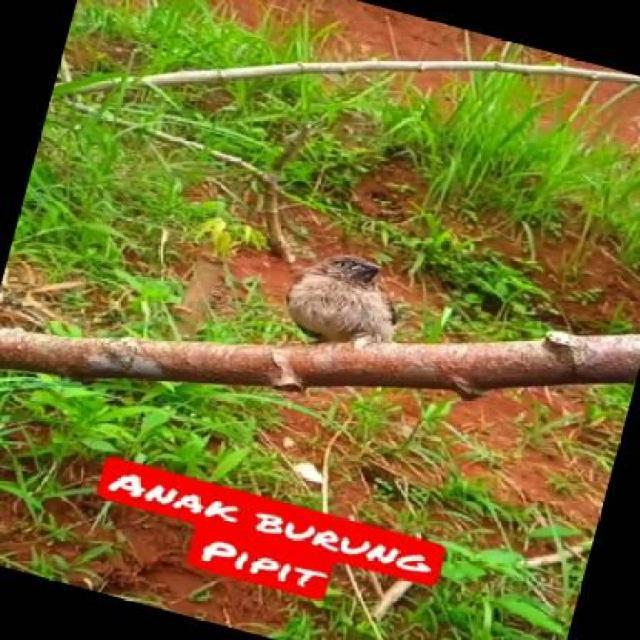Bird: (277, 231, 403, 343)
